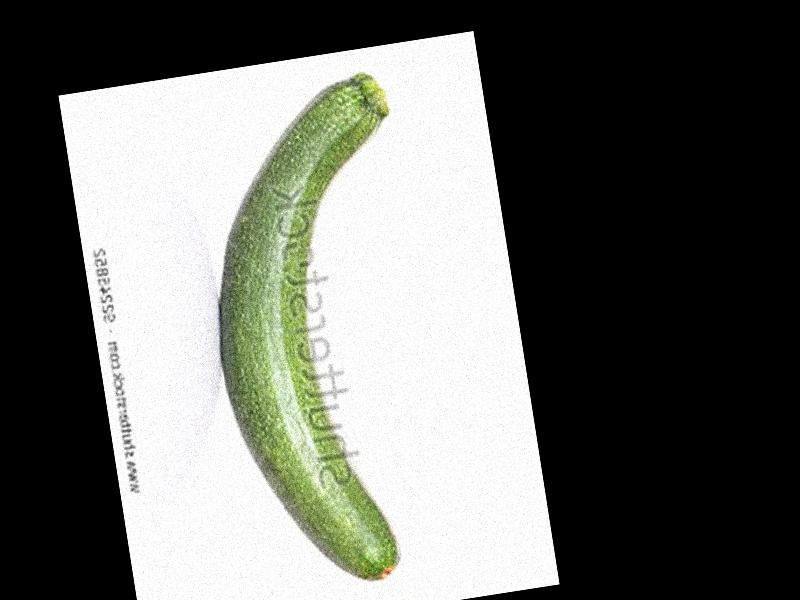Cucumber: (182, 72, 461, 598)
